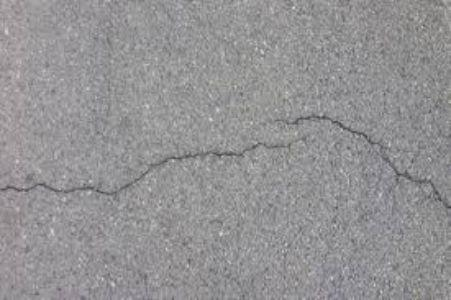crack: (7, 115, 451, 208)
